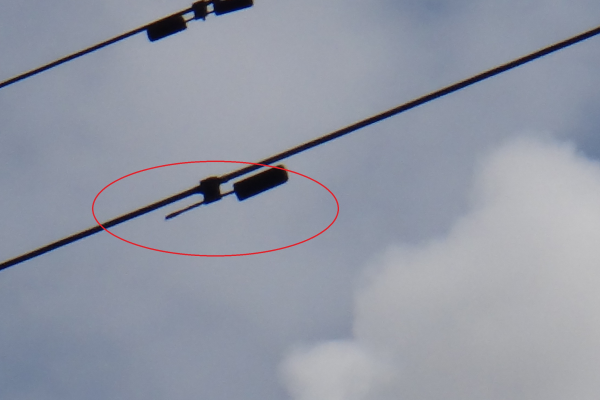damper_defect: (161, 162, 290, 223)
